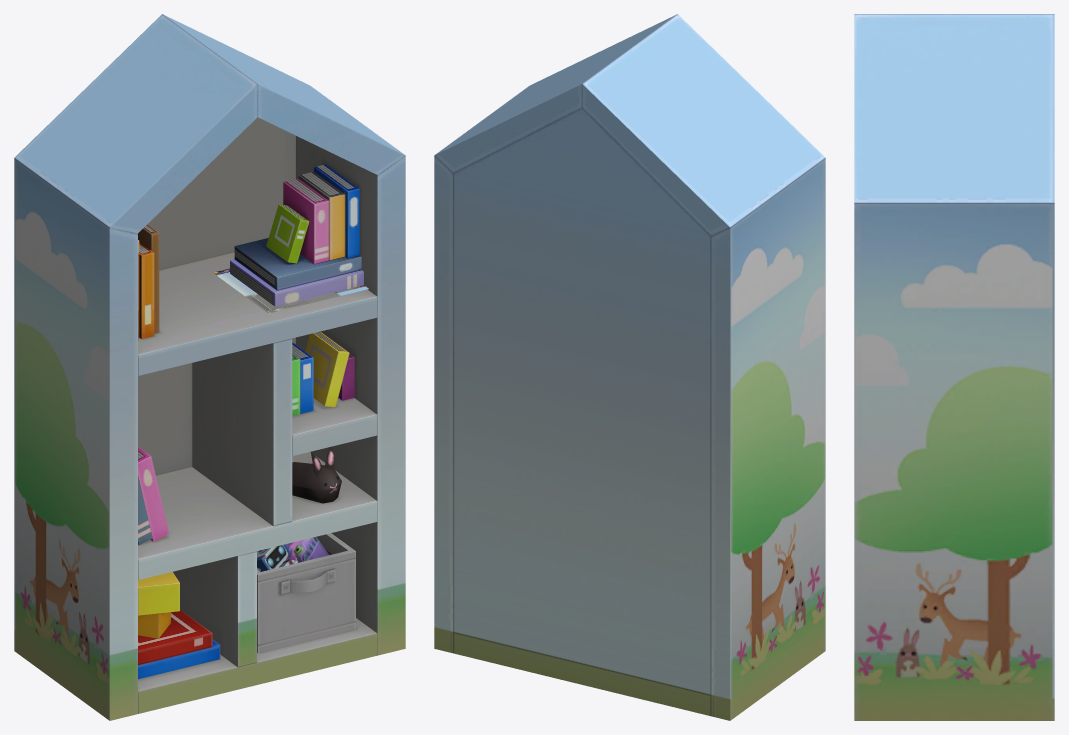
File: estanteria.fbx
The picture shows the model from 3 angles, left to right: view 1: azimuth 30°, elevation 25°; view 2: azimuth 150°, elevation 25°; view 3: azimuth 270°, elevation 25°; orthographic projection. The views are drawn at different scales.
Visible parts, largest first — view 1: s4studio_mesh_0, s4studio_mesh_1; view 2: s4studio_mesh_0; view 3: s4studio_mesh_0.
Part boxes in pixels (bbox=[...]): s4studio_mesh_0: bbox=[14, 14, 405, 720]; s4studio_mesh_1: bbox=[213, 268, 368, 313]; s4studio_mesh_0: bbox=[434, 14, 825, 720]; s4studio_mesh_0: bbox=[854, 14, 1054, 720].
Bounding box in the file's own units: 100 × 194 × 55.89.
2 materials, 2 textured.
